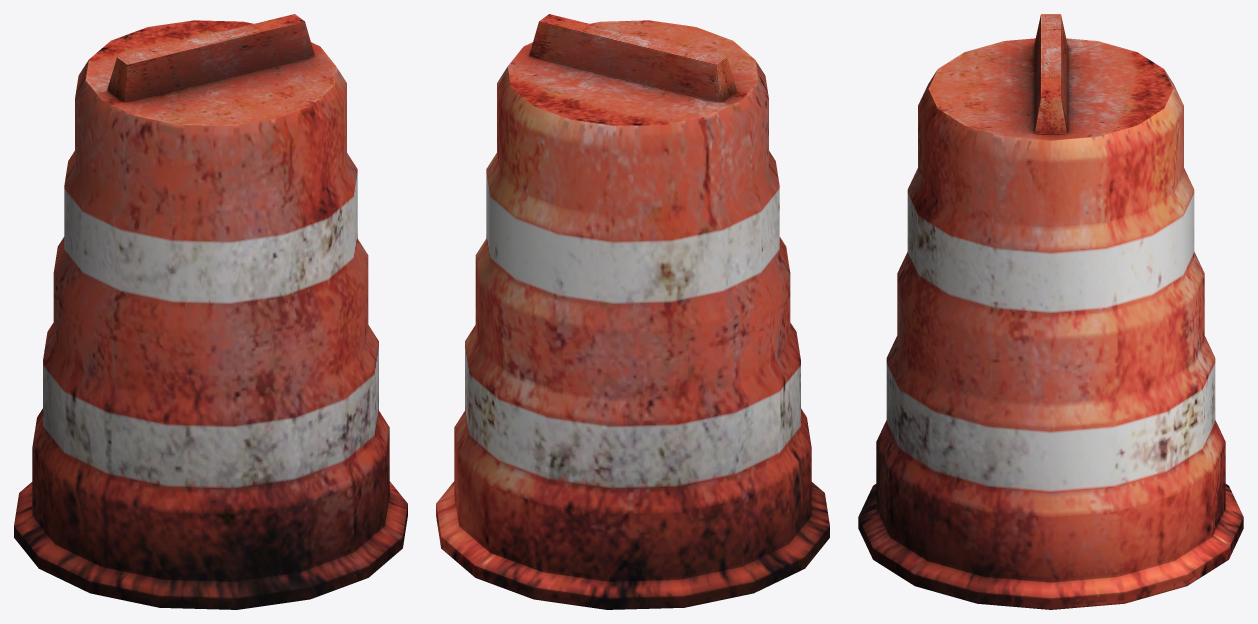
The model's file is barrelwarning.glb.
The picture shows the model from 3 angles, left to right: view 1: azimuth 30°, elevation 25°; view 2: azimuth 150°, elevation 25°; view 3: azimuth 270°, elevation 25°; orthographic projection. The views are drawn at different scales.
Parts seen in each view (by area): view 1: barrelwarning; view 2: barrelwarning; view 3: barrelwarning.
Part boxes in pixels (bbox=[...]): barrelwarning: bbox=[14, 14, 407, 609]; barrelwarning: bbox=[436, 14, 829, 609]; barrelwarning: bbox=[858, 14, 1243, 609].
Bounding box in the file's own units: 0.5678 × 0.7688 × 0.5678.
1 material, 1 textured.
